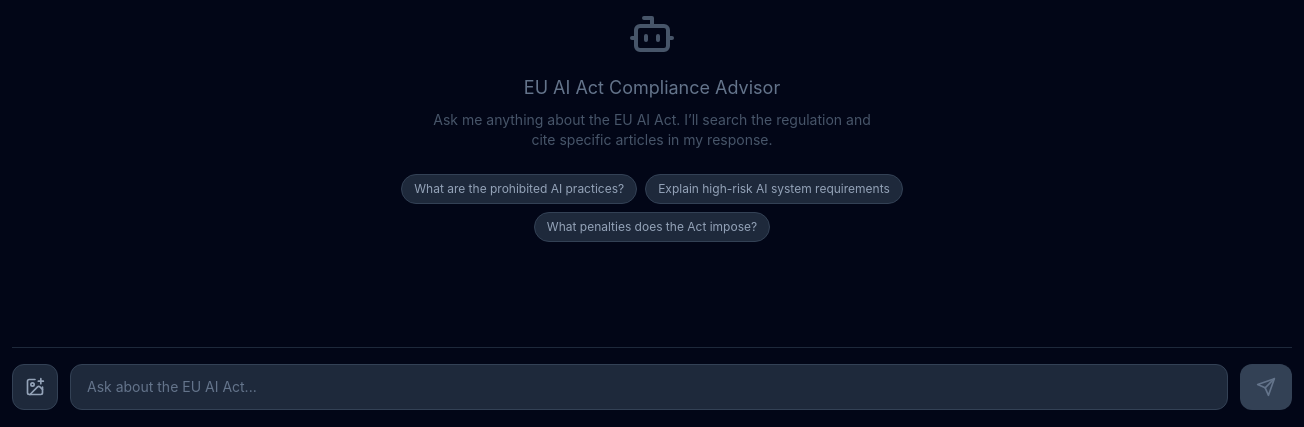
Test: AgentChat › suggestion interaction › populates input when suggestion is clicked
The width and height of the screenshot is (1304, 427).
Click the button "What are the prohibited AI practices?": (519, 189) [401, 174, 637, 204]
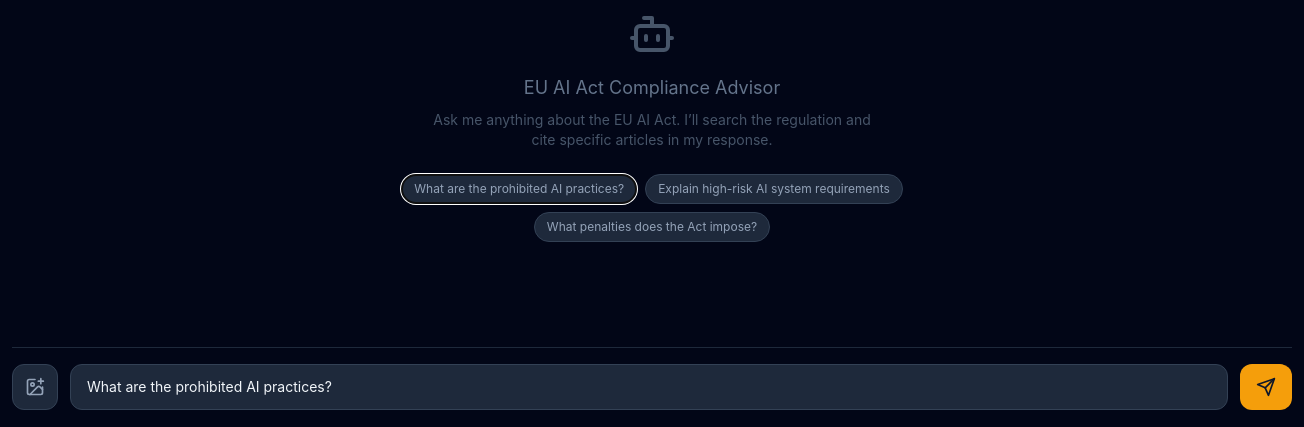
Now the field with placeholder "Ask about the EU AI Act..." holds "What are the prohibited AI practices?", box [70, 364, 1228, 410]
